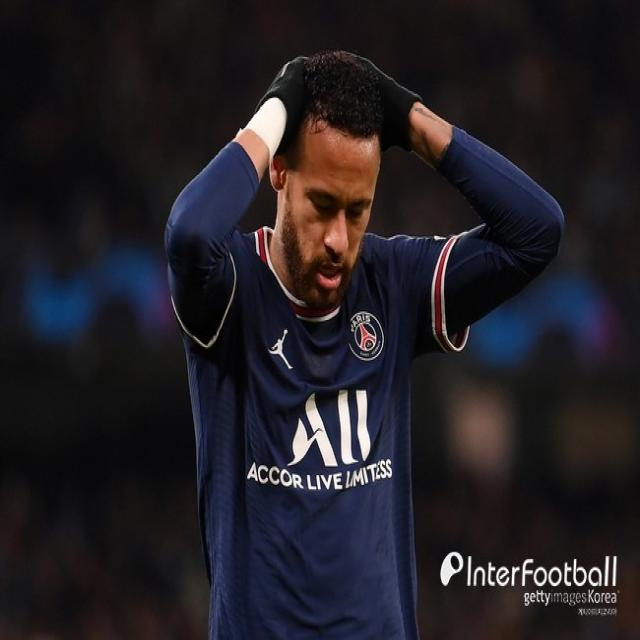neymar: (275, 98, 383, 306)
